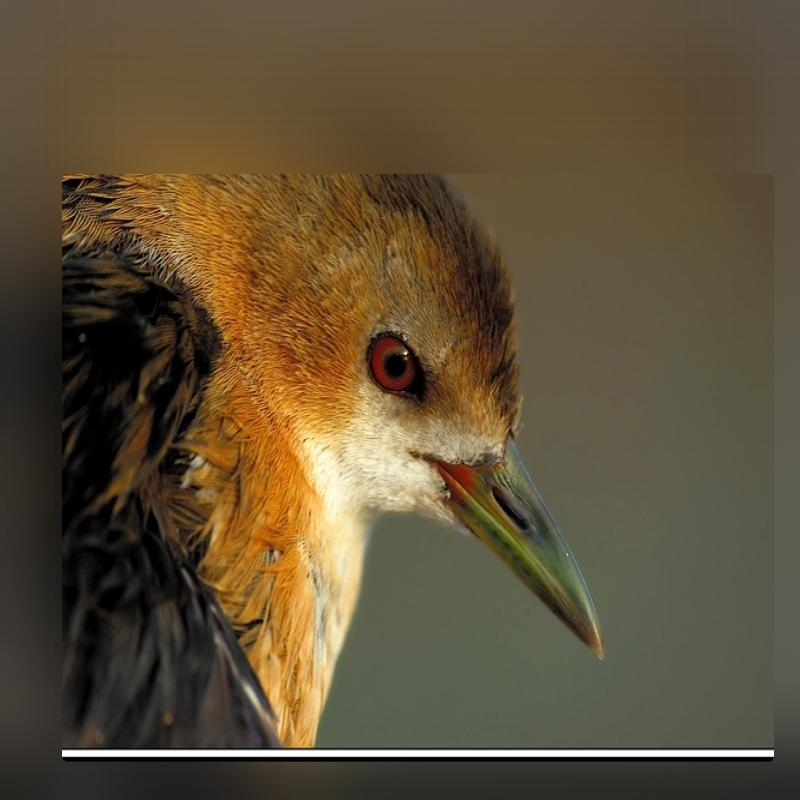little crake: (58, 172, 620, 748)
